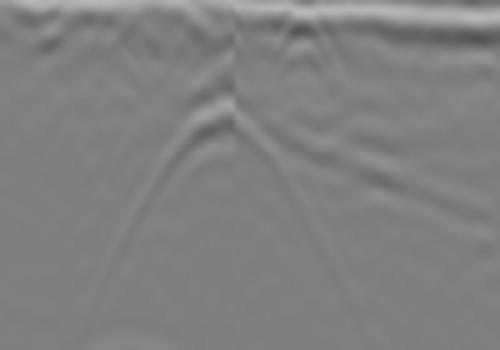hyperbola: (153, 102, 286, 215)
